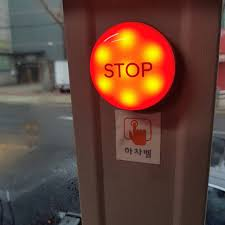bell: (86, 19, 180, 114)
